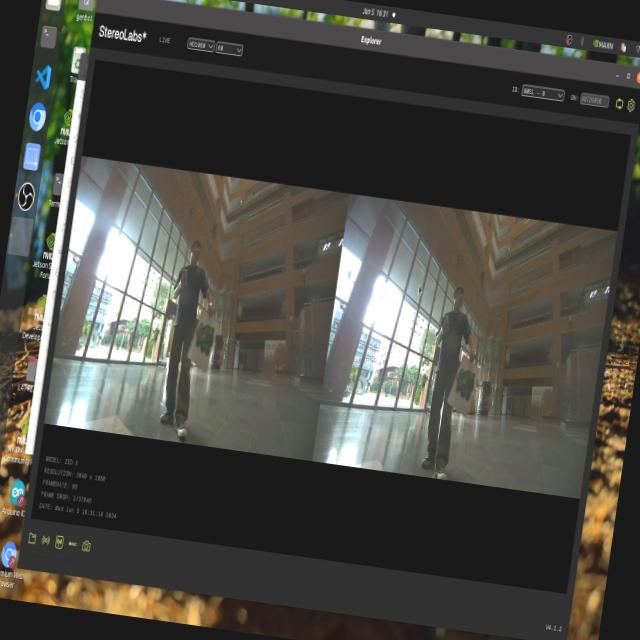green: (452, 366, 482, 412), (190, 314, 220, 355)
